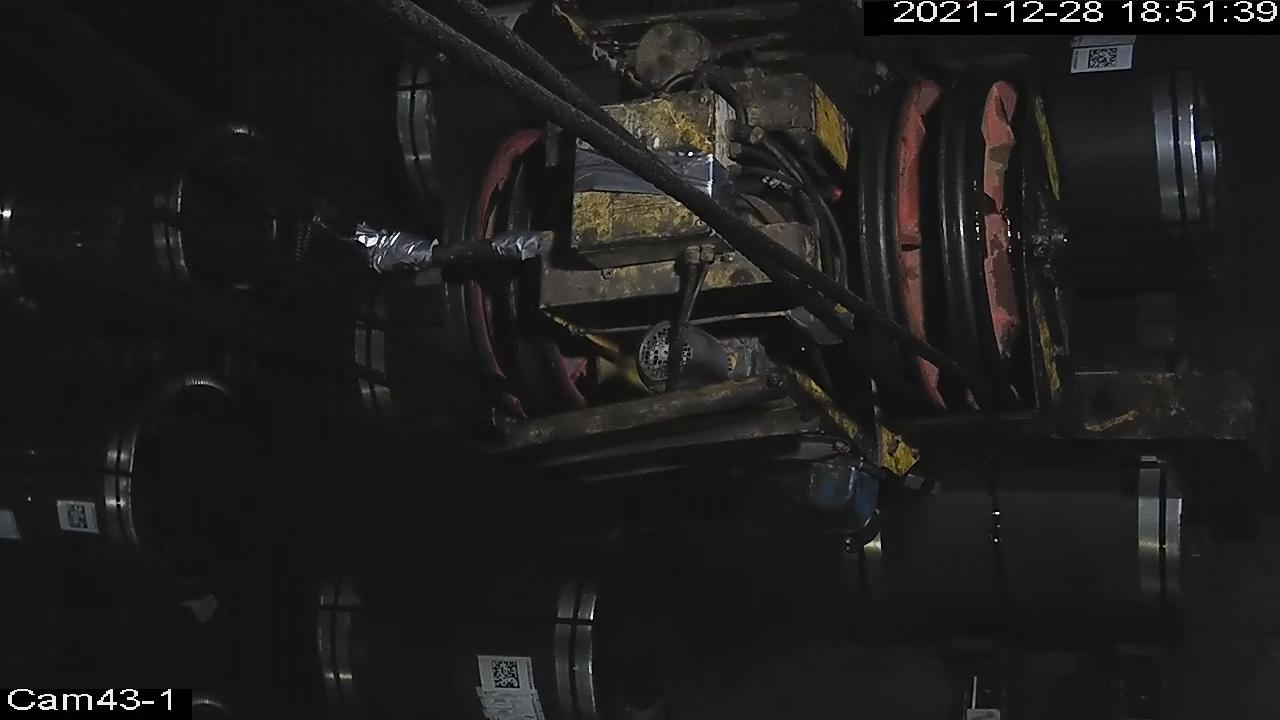data matrix: (490, 658, 524, 691), (1087, 47, 1121, 71)
